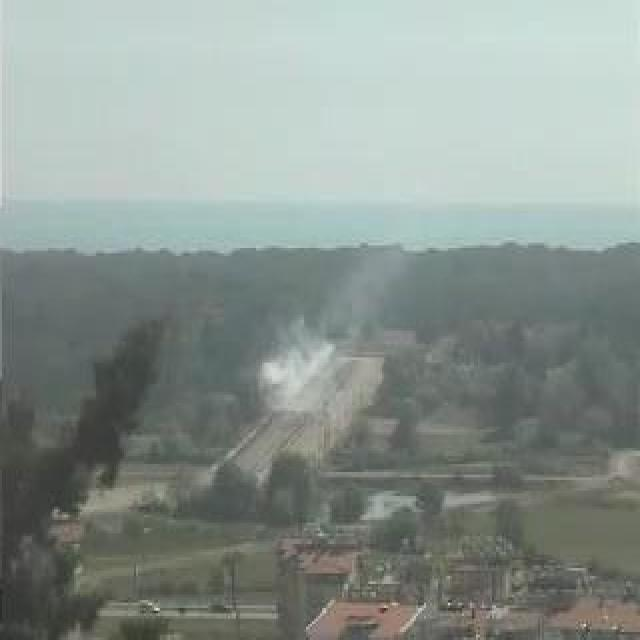Smoke: (258, 300, 356, 407)
